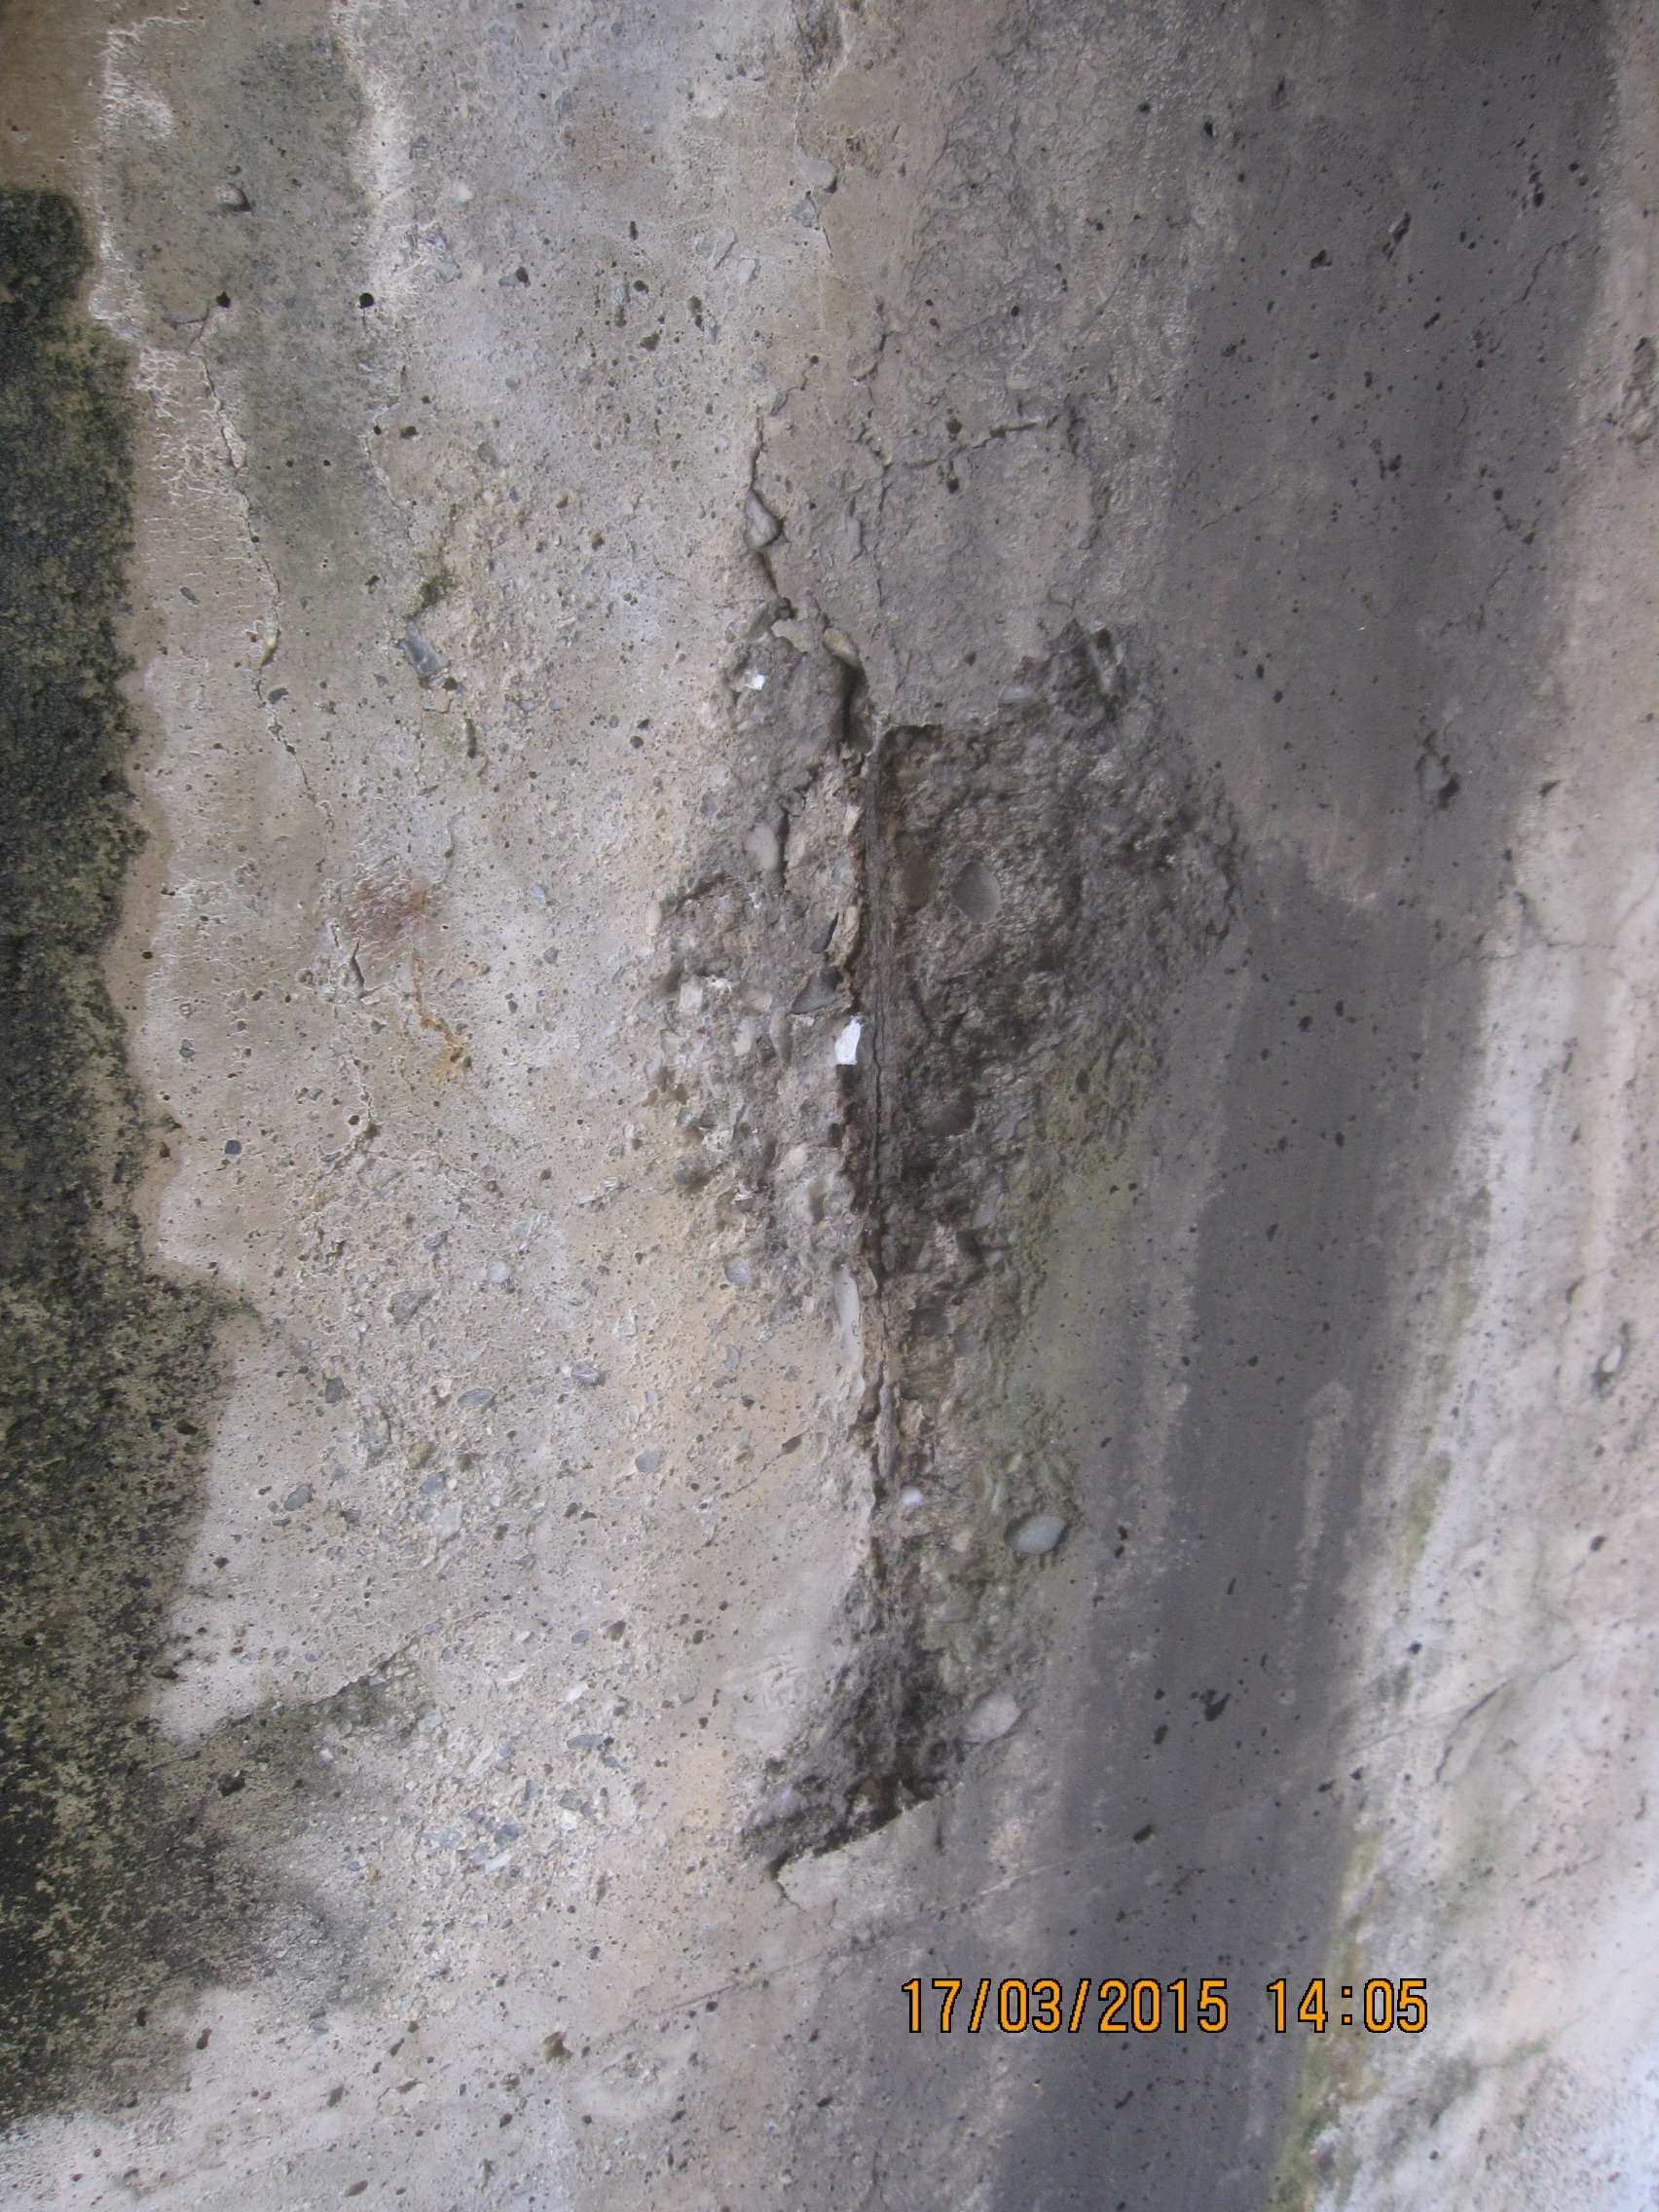defect: (660, 329, 1249, 1871), (188, 350, 509, 1195)
